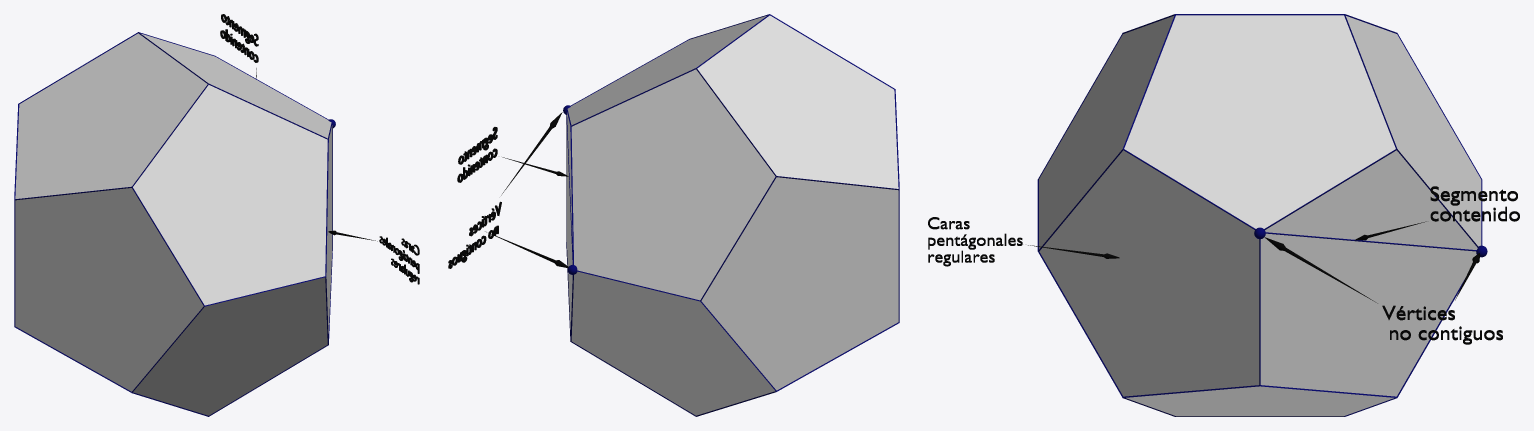
Rendered from def_convexo_regular.glb.
3 views of the same model, side by side, from view 1: azimuth 30°, elevation 25°; view 2: azimuth 150°, elevation 25°; view 3: azimuth 270°, elevation 25° (orthographic). The views are drawn at different scales.
Visible parts, largest first — view 1: Solid, Solid.002, Text.002, Text.001; view 2: Solid, Solid.002, Text.002, Text; view 3: Solid, Solid.002, Text.001, Text, Text.002.
Part boxes in pixels (x1,y1,x2,y2): Solid: (15,33,332,415); Solid.002: (14,32,332,416); Text.002: (220,14,258,62); Text.001: (379,236,419,284); Solid: (566,15,898,415); Solid.002: (566,14,899,416); Text.002: (457,127,497,182); Text: (448,201,501,268); Solid: (1039,15,1481,416); Solid.002: (1037,14,1482,416); Text.001: (928,217,1022,266); Text: (1382,305,1502,344); Text.002: (1430,186,1519,221).
Bounding box in the file's own units: 1.96 × 1.87 × 2.5.
